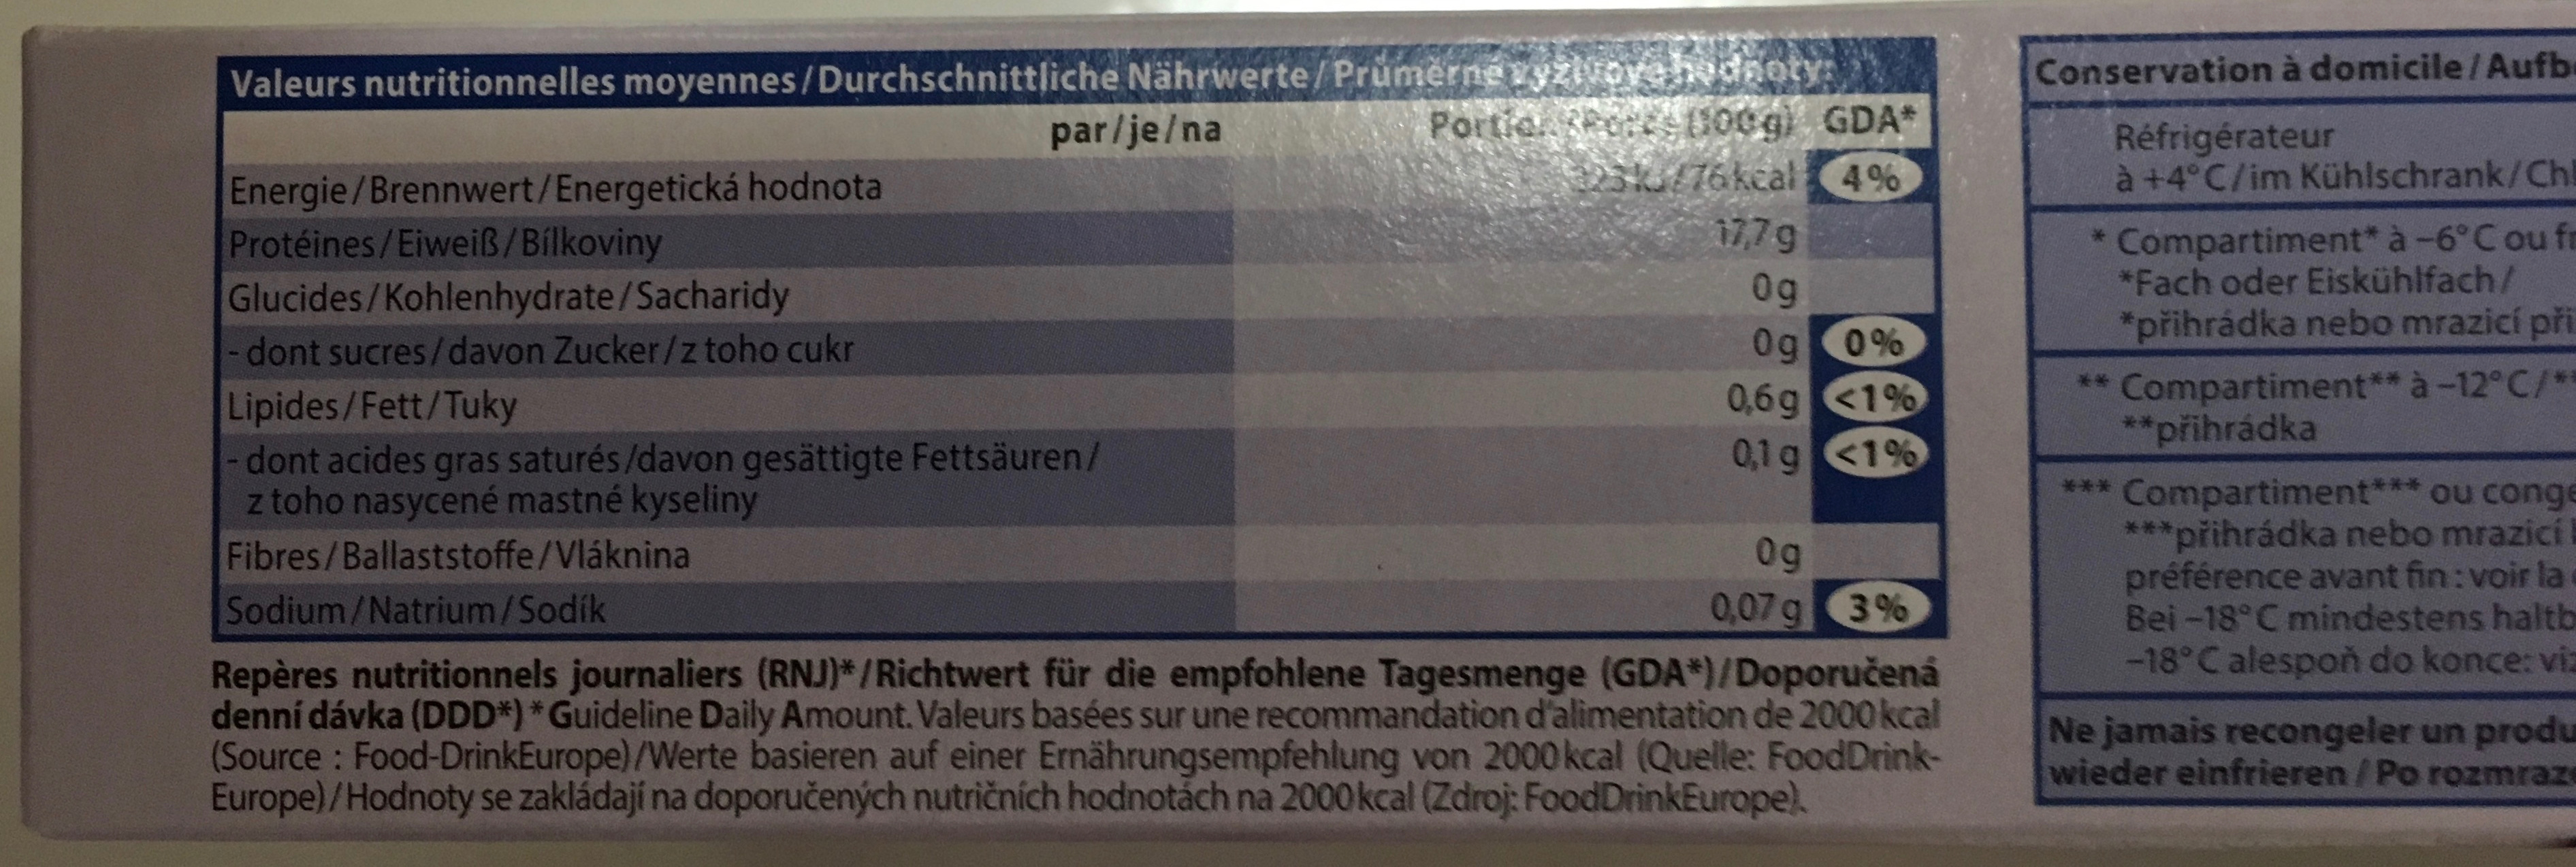column: (219, 172, 1099, 629), (1426, 102, 1801, 631), (1815, 102, 1930, 639)
table: (207, 44, 1952, 647)
